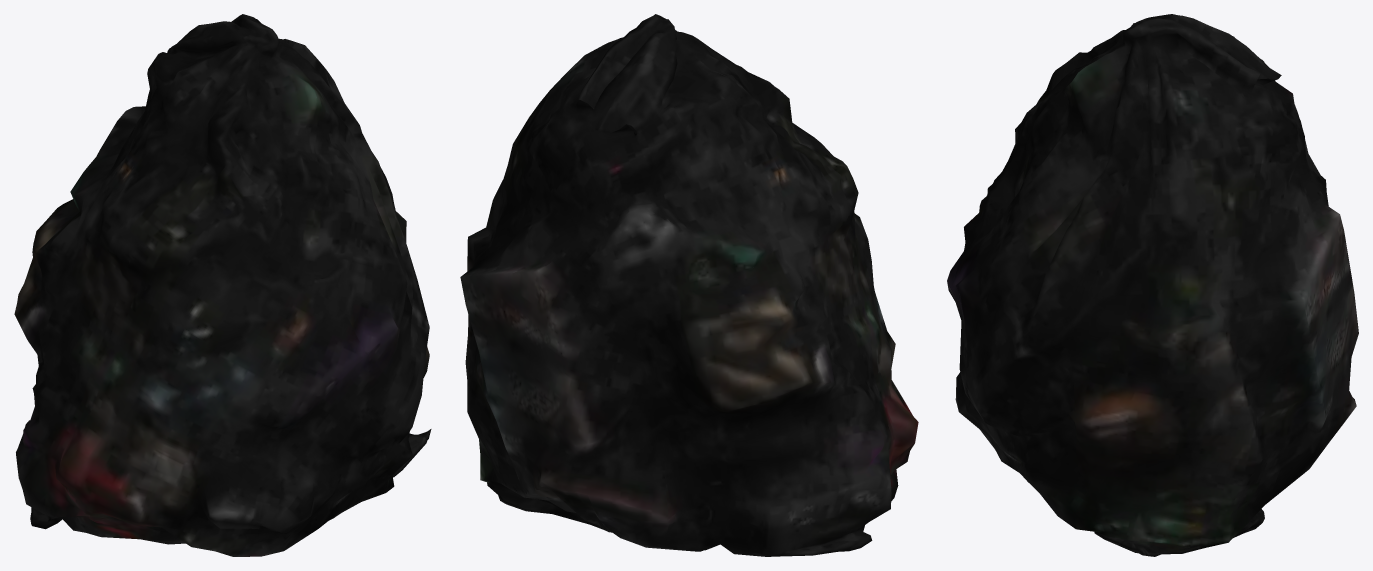
The model's file is trashbag.glb.
The picture shows the model from 3 angles, left to right: view 1: azimuth 30°, elevation 25°; view 2: azimuth 150°, elevation 25°; view 3: azimuth 270°, elevation 25°; orthographic projection. The views are drawn at different scales.
Visible parts, largest first — view 1: trashbag; view 2: trashbag; view 3: trashbag.
Part boxes in pixels (box(x1,y1,x2,y2)): trashbag: box(14, 14, 431, 556); trashbag: box(460, 14, 918, 556); trashbag: box(947, 14, 1358, 556).
Size of the model in its own units: 0.5281 by 0.575 by 0.4629.
1 material, 1 textured.
